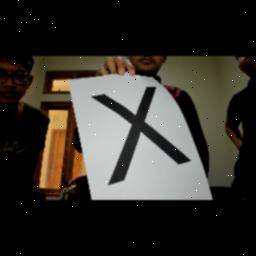x: (80, 72, 208, 188)
